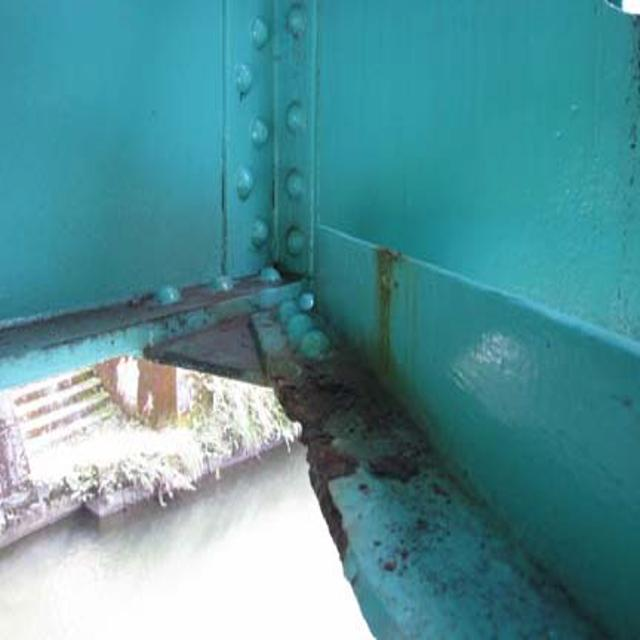corrosion: (125, 301, 428, 530)
